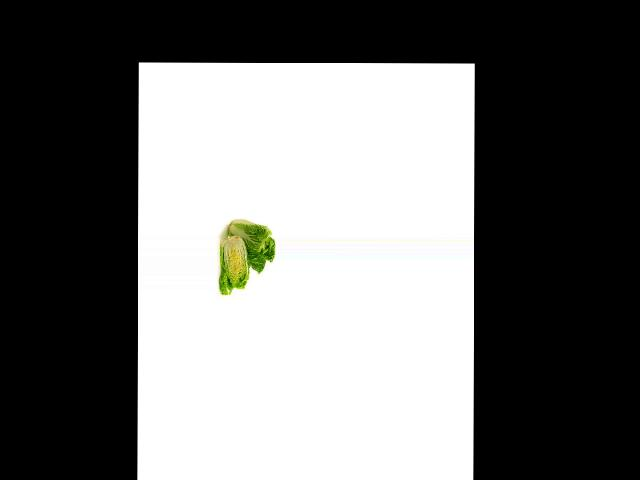lettuce: (224, 218, 277, 276)
